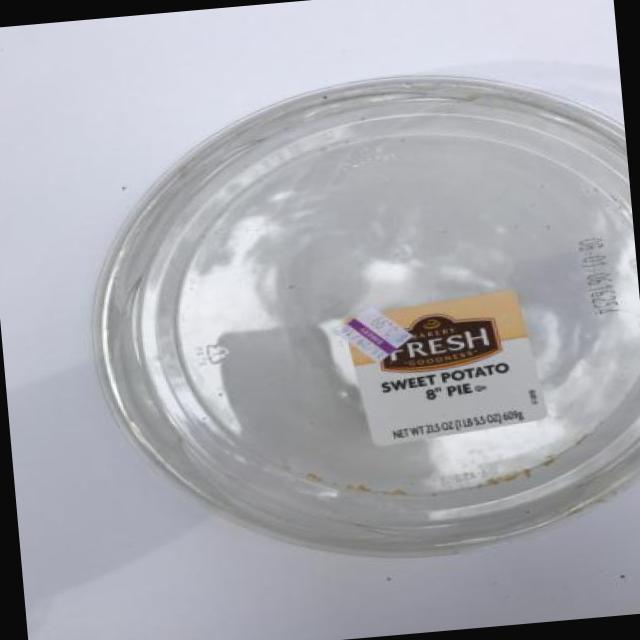plastic: (97, 78, 639, 557)
